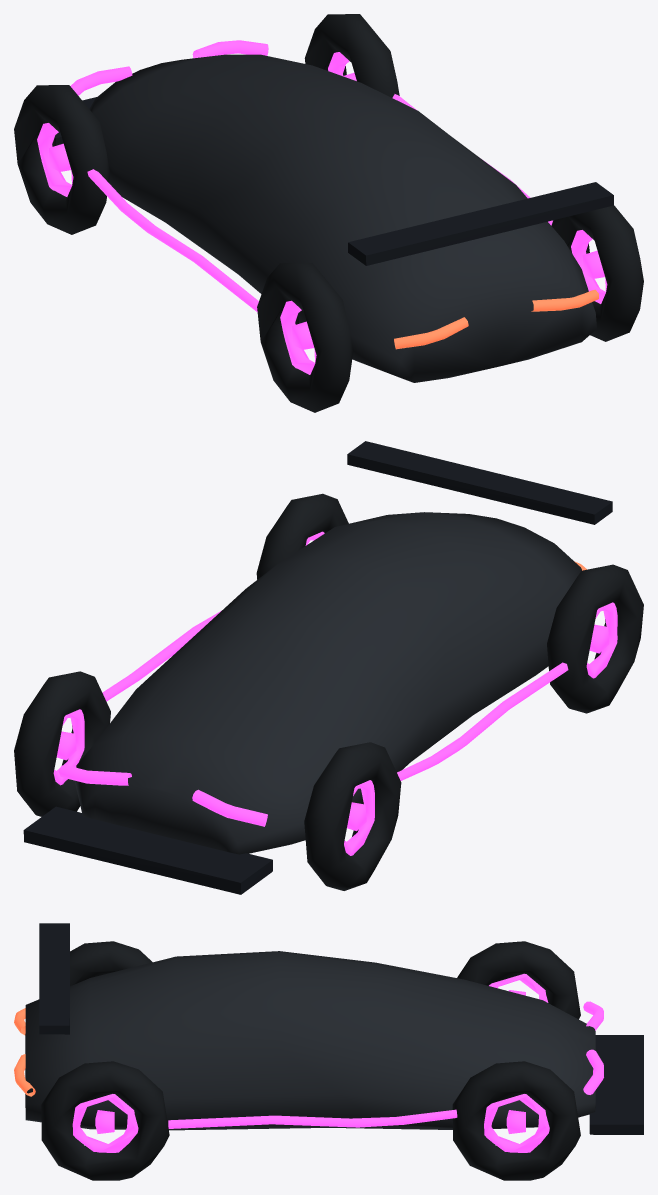
The model's file is Rival03_Prototype_LOD2.fbx.
3 views of the same model, one above another, from view 1: azimuth 30°, elevation 25°; view 2: azimuth 150°, elevation 25°; view 3: azimuth 270°, elevation 25° (orthographic). The views are drawn at different scales.
Visible parts, largest first — view 1: Rival03_Prototype_Body_LOD2, Rival03_Prototype_Wheel_RL_LOD2, Rival03_Prototype_Wheel_FL_LOD2, Rival03_Prototype_Wheel_RR_LOD2, Rival03_Prototype_Wheel_FR_LOD2; view 2: Rival03_Prototype_Body_LOD2, Rival03_Prototype_Wheel_FL_LOD2, Rival03_Prototype_Wheel_RL_LOD2, Rival03_Prototype_Wheel_FR_LOD2, Rival03_Prototype_Wheel_RR_LOD2; view 3: Rival03_Prototype_Body_LOD2, Rival03_Prototype_Wheel_RR_LOD2, Rival03_Prototype_Wheel_FR_LOD2, Rival03_Prototype_Wheel_FL_LOD2, Rival03_Prototype_Wheel_RL_LOD2.
Part boxes in pixels (bbox=[...]): Rival03_Prototype_Body_LOD2: bbox=[55, 40, 613, 382]; Rival03_Prototype_Wheel_RL_LOD2: bbox=[257, 263, 353, 412]; Rival03_Prototype_Wheel_FL_LOD2: bbox=[14, 85, 109, 234]; Rival03_Prototype_Wheel_RR_LOD2: bbox=[551, 205, 643, 341]; Rival03_Prototype_Wheel_FR_LOD2: bbox=[304, 14, 399, 97]; Rival03_Prototype_Body_LOD2: bbox=[23, 441, 612, 894]; Rival03_Prototype_Wheel_FL_LOD2: bbox=[304, 742, 401, 890]; Rival03_Prototype_Wheel_RL_LOD2: bbox=[547, 564, 643, 713]; Rival03_Prototype_Wheel_FR_LOD2: bbox=[14, 671, 110, 816]; Rival03_Prototype_Wheel_RR_LOD2: bbox=[256, 493, 348, 579]; Rival03_Prototype_Body_LOD2: bbox=[14, 923, 643, 1134]; Rival03_Prototype_Wheel_RR_LOD2: bbox=[41, 1061, 169, 1180]; Rival03_Prototype_Wheel_FR_LOD2: bbox=[452, 1061, 580, 1180]; Rival03_Prototype_Wheel_FL_LOD2: bbox=[457, 941, 580, 1019]; Rival03_Prototype_Wheel_RL_LOD2: bbox=[70, 941, 152, 986].
Bounding box in the file's own units: 2.15 × 1.18 × 4.26.
